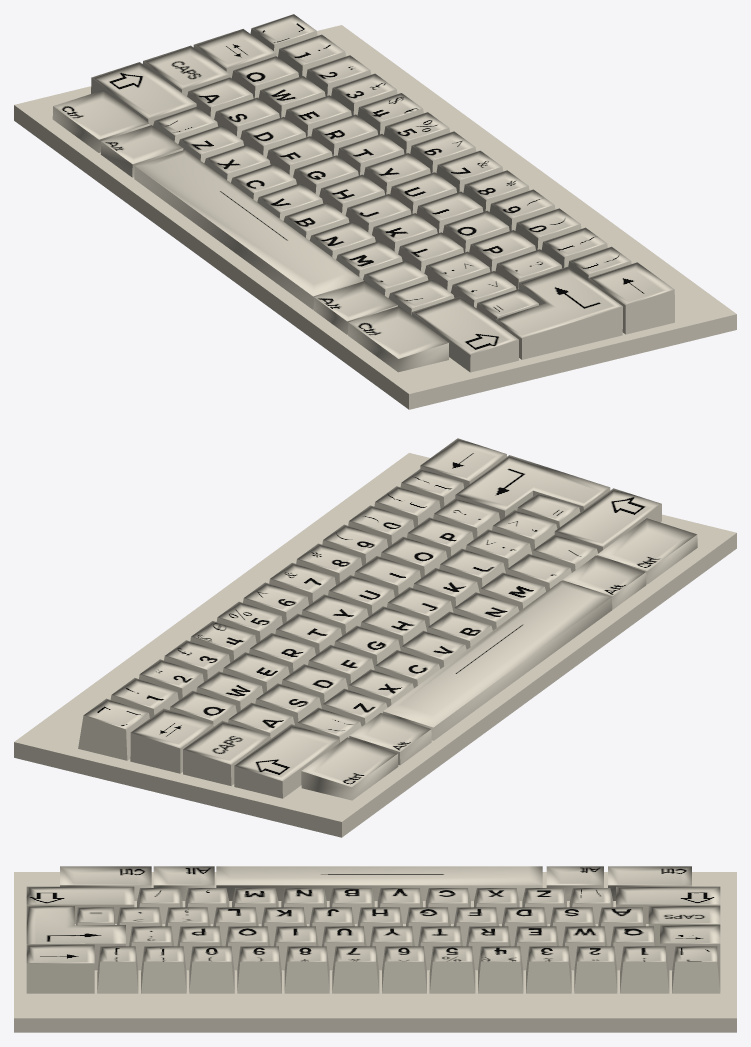
File: keyboard.fbx
The picture shows the model from 3 angles, top to bottom: view 1: azimuth 30°, elevation 25°; view 2: azimuth 150°, elevation 25°; view 3: azimuth 270°, elevation 25°; orthographic projection. The views are drawn at different scales.
Parts seen in each view (by area): view 1: Plane.001; view 2: Plane.001; view 3: Plane.001.
Part boxes in pixels (box(x1,y1,x2,y2)): Plane.001: box(14, 14, 736, 409); Plane.001: box(14, 438, 736, 837); Plane.001: box(14, 866, 736, 1032).
Bounding box in the file's own units: 240 × 34.12 × 501.
Materials: 1 (1 with a texture image).
